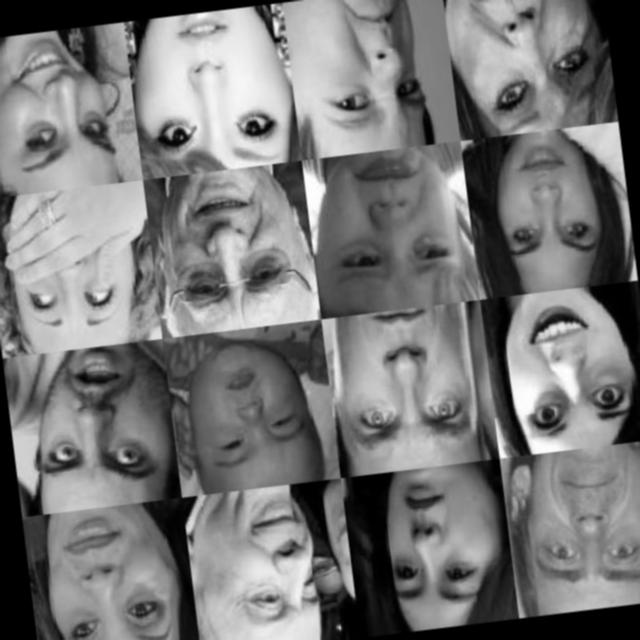angry: (303, 0, 438, 146)
fear: (13, 342, 174, 511), (329, 303, 486, 468), (498, 290, 640, 455), (0, 187, 143, 350)
happy: (0, 24, 124, 185), (520, 448, 640, 607), (489, 132, 610, 276), (219, 488, 331, 640)
neutral: (130, 4, 286, 179), (368, 465, 494, 625), (186, 334, 318, 486), (40, 501, 183, 640)
sad: (310, 144, 468, 303), (152, 166, 305, 326), (449, 0, 608, 142)
